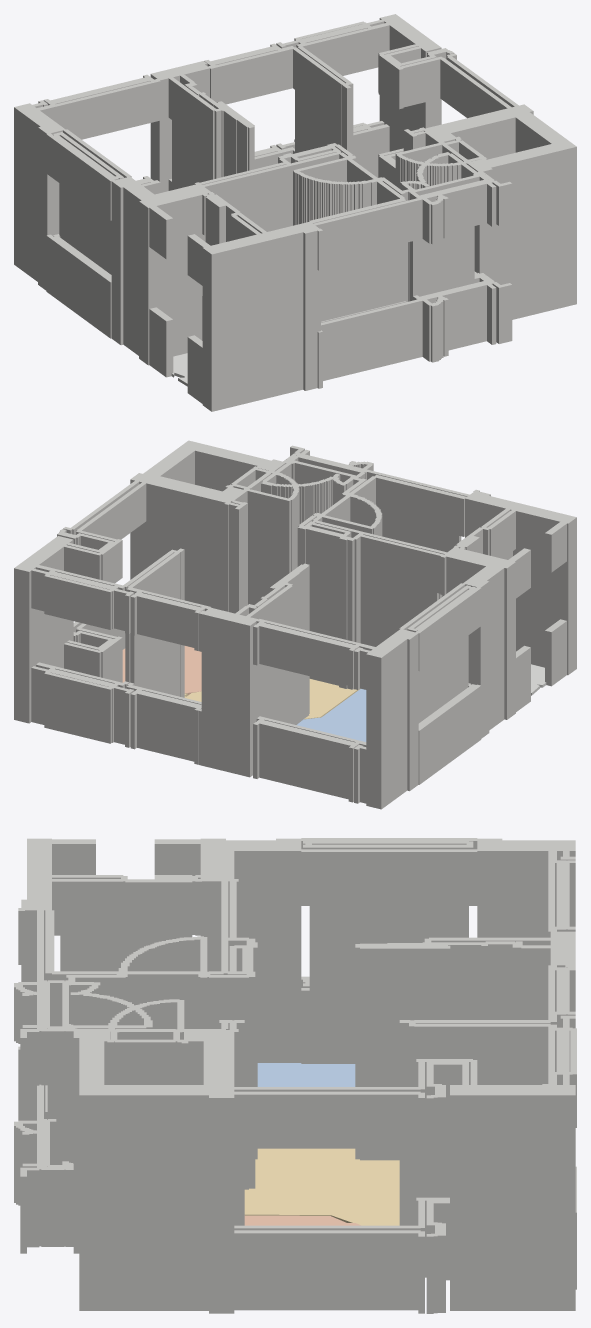
3 views of the same model, one above another, from view 1: azimuth 30°, elevation 25°; view 2: azimuth 150°, elevation 25°; view 3: azimuth 270°, elevation 25° (orthographic). The views are drawn at different scales.
Visible parts, largest first — view 1: walls; view 2: walls, room:bedroom:0, room:living:1, room:kitchen:2; view 3: walls, room:living:1, room:bedroom:0, room:kitchen:2.
Boxes of the visible parts, x1,y1,x2,y2 form: walls: (14, 14, 576, 411); walls: (14, 440, 576, 809); room:bedroom:0: (296, 689, 366, 741); room:living:1: (184, 679, 360, 719); room:kitchen:2: (122, 646, 201, 695); walls: (14, 838, 576, 1313); room:living:1: (244, 1148, 399, 1225); room:bedroom:0: (257, 1063, 355, 1086); room:kitchen:2: (244, 1215, 360, 1225).
Bounding box in the file's own units: 7.24 × 2.8 × 6.63.
